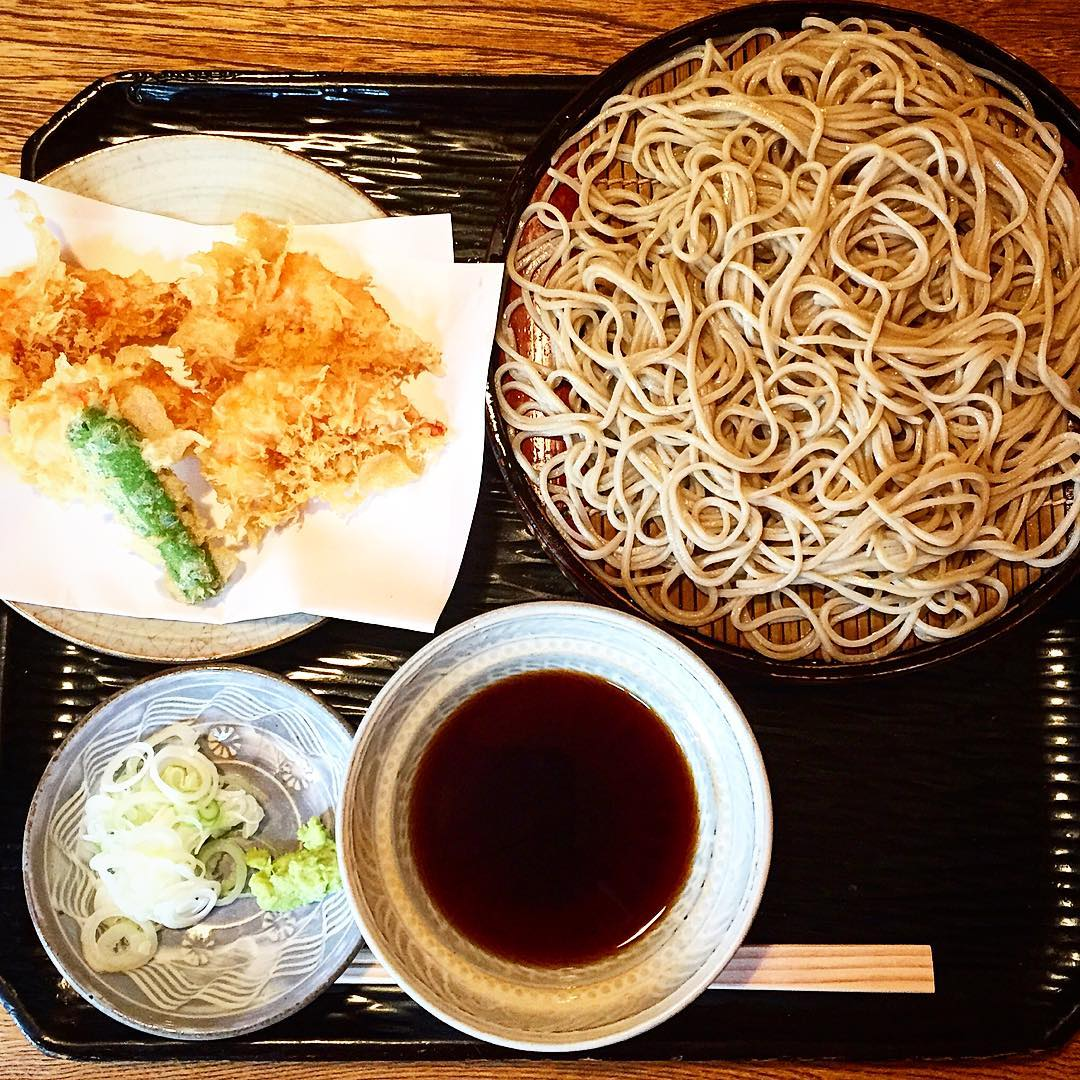Soba: (521, 35, 1080, 674)
